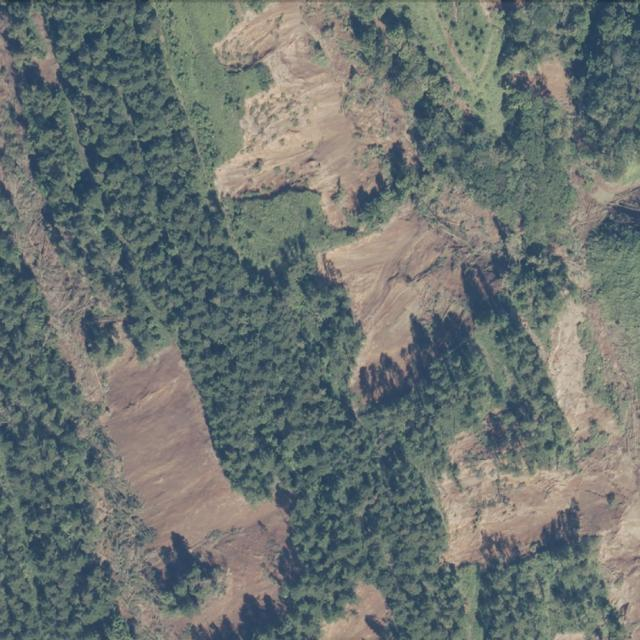landslide: (0, 14, 288, 625), (439, 171, 640, 640), (216, 3, 410, 226), (321, 188, 502, 392), (322, 585, 390, 640)
